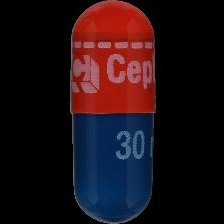21695-953: (0, 0, 224, 224)
